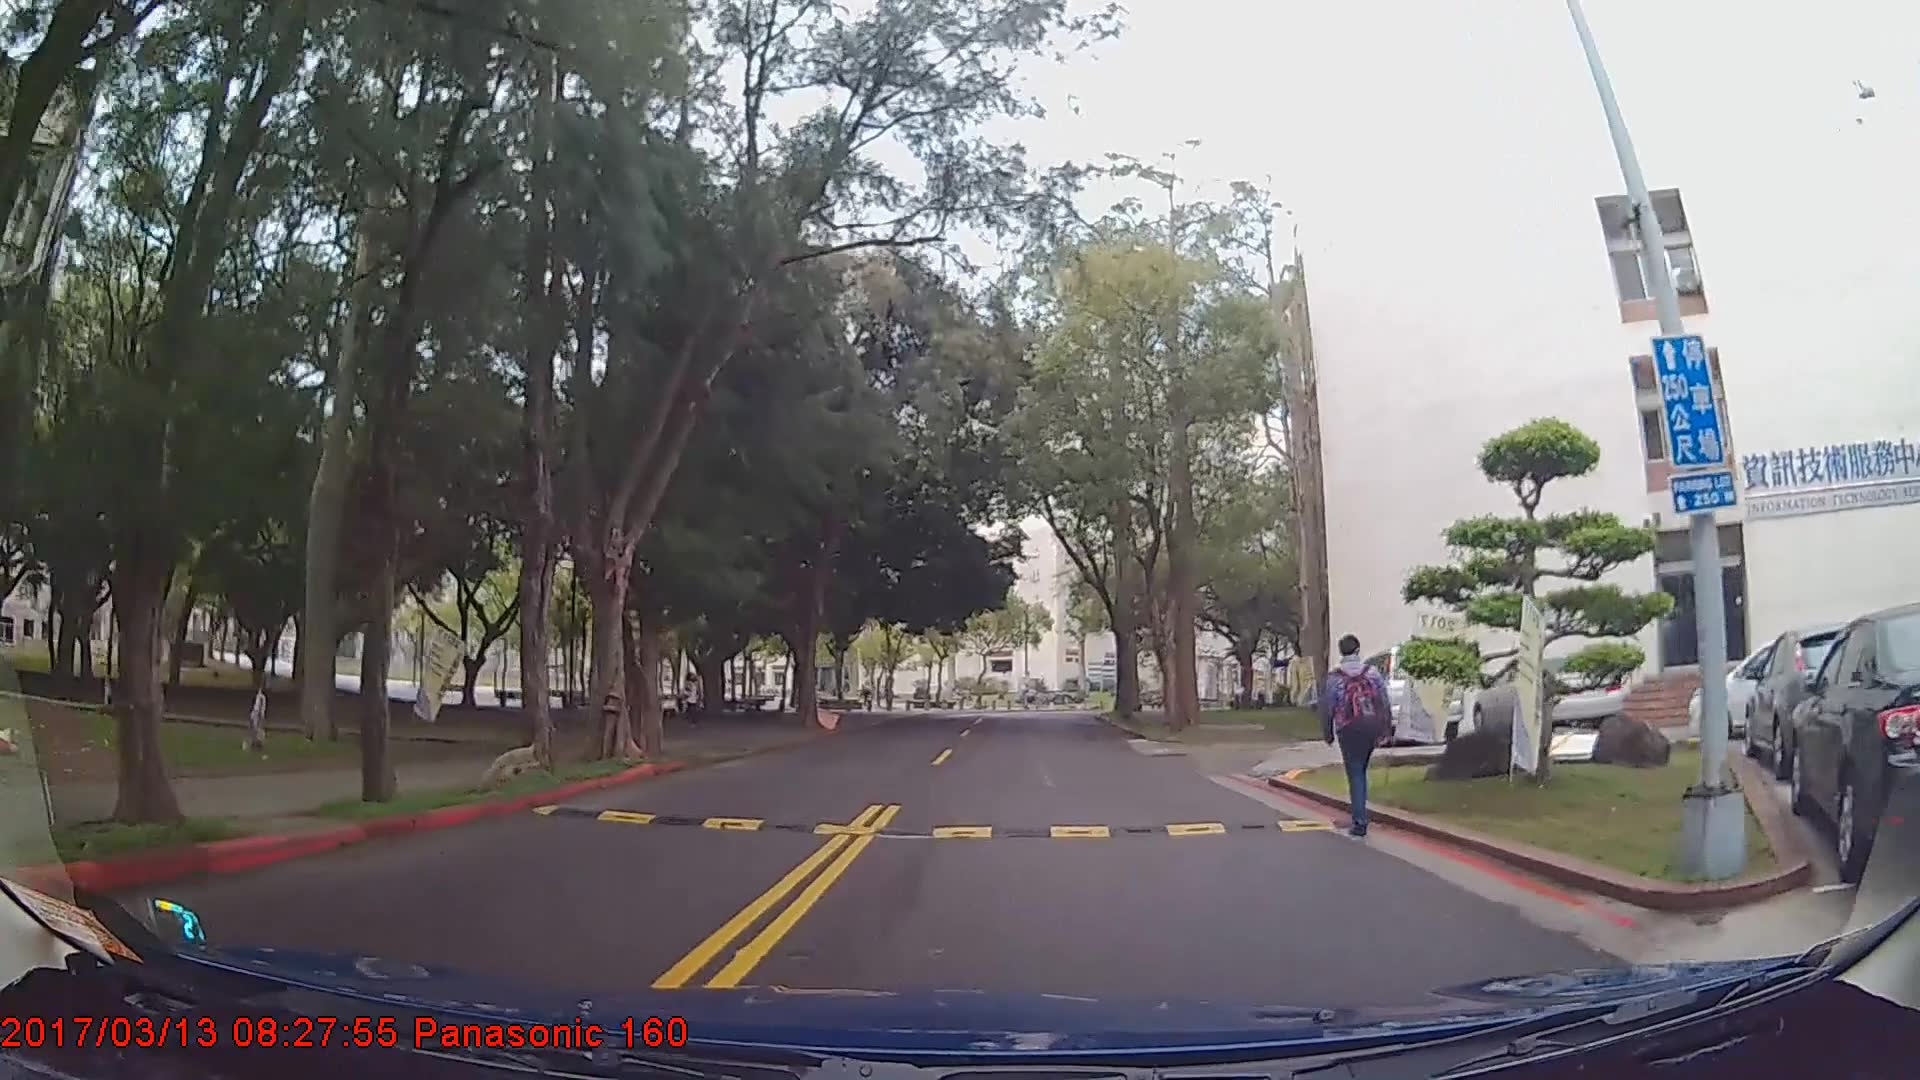pedestrian: (1319, 632, 1397, 838), (680, 669, 705, 733)
vehicle: (1787, 600, 1920, 877)
